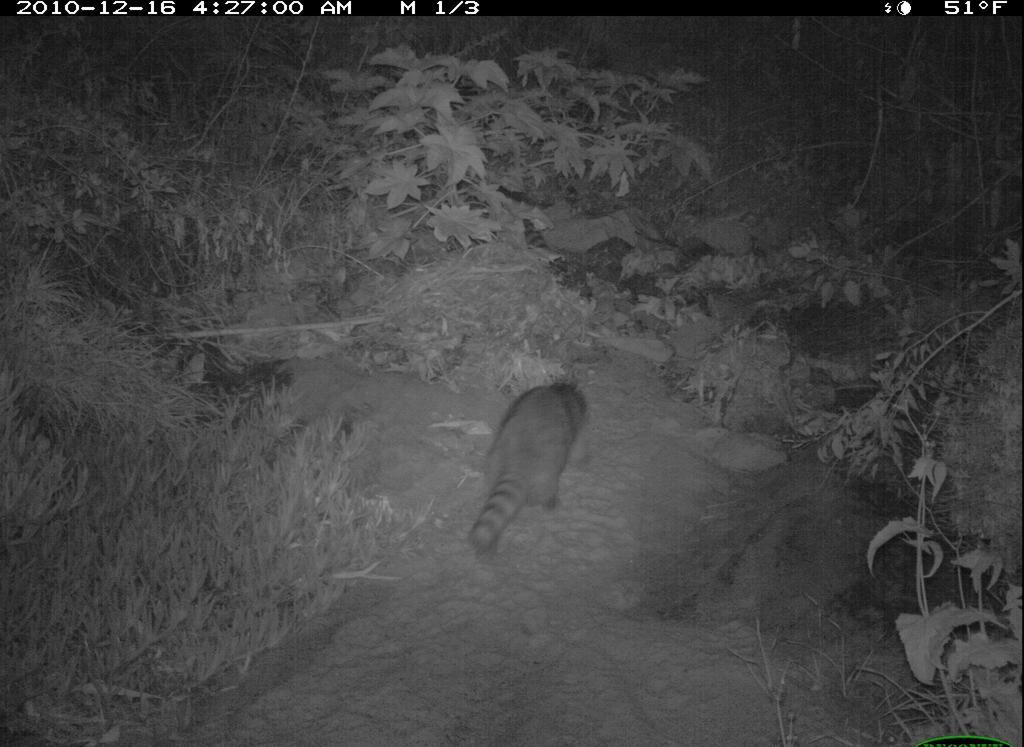raccoon: (454, 370, 601, 573)
